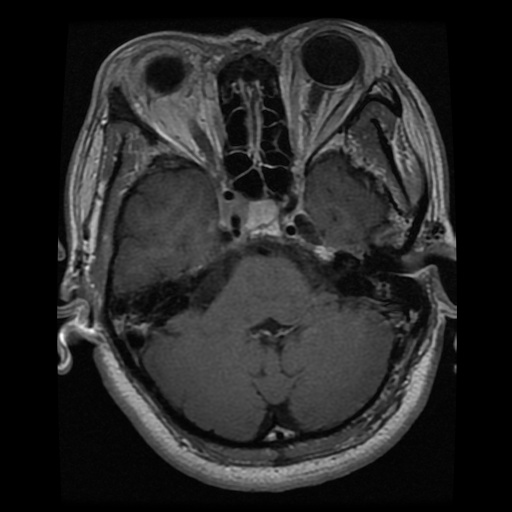pituitary: (244, 196, 281, 240)
